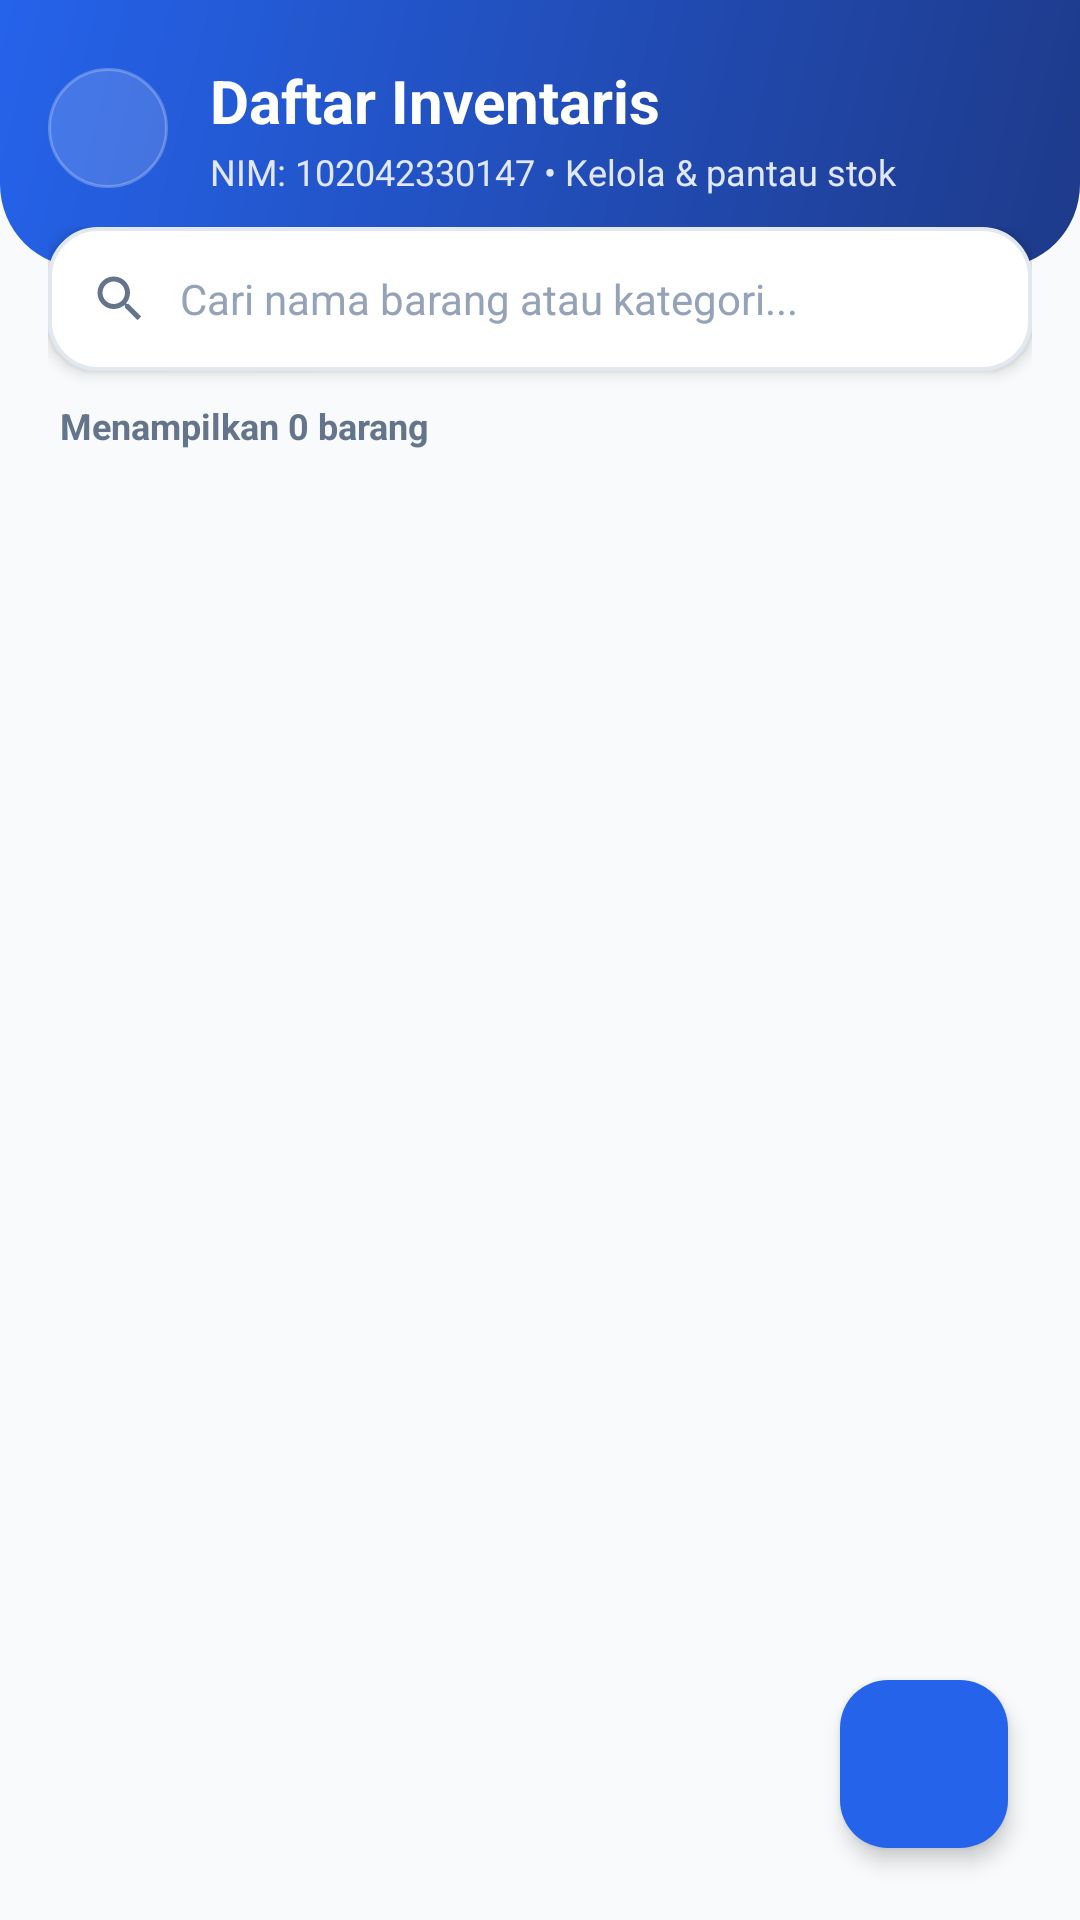

Named icons in this screenshot (1080x1920) and their bounding boxes, [x1,y1,x2,y2]:
Search Icon: [97,276,141,320]
